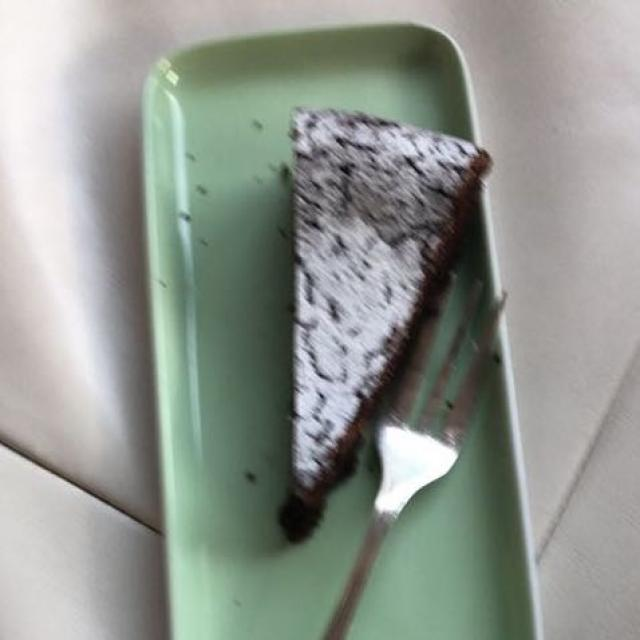cake-chocolate: (286, 117, 471, 500)
